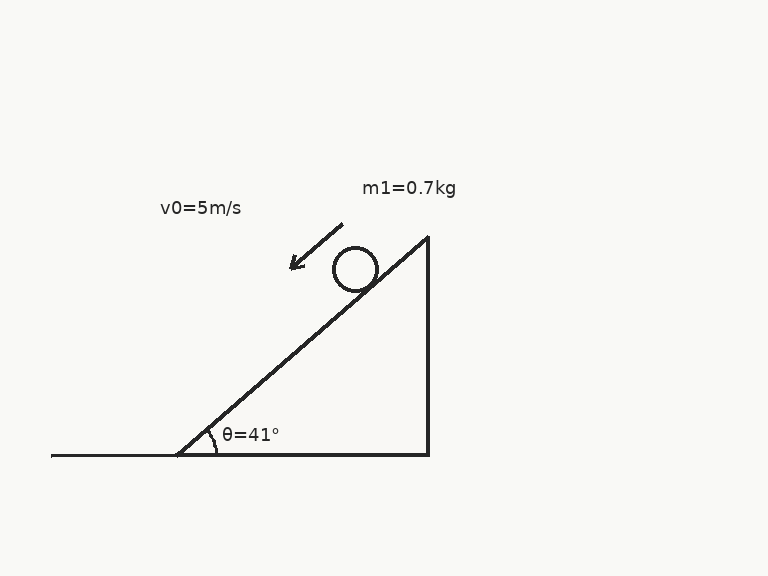ball: (330, 244, 380, 294)
ramp: (174, 234, 430, 457)
